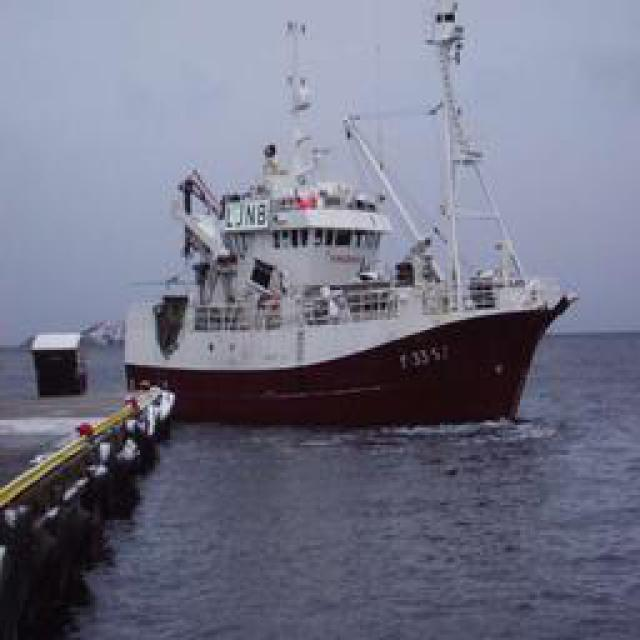Ship: (122, 1, 578, 424)
